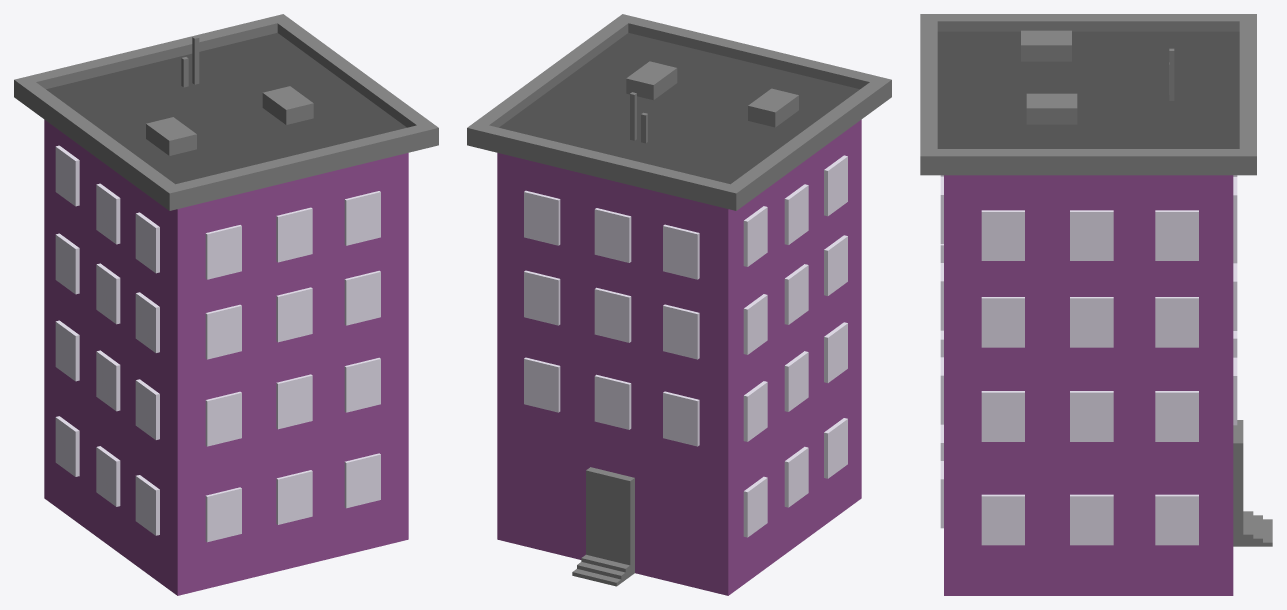
File: apartment-building.glb
3 views of the same model, side by side, from view 1: azimuth 30°, elevation 25°; view 2: azimuth 150°, elevation 25°; view 3: azimuth 270°, elevation 25° (orthographic). The views are drawn at different scales.
Parts seen in each view (by area): view 1: Cube; view 2: Cube; view 3: Cube.
Boxes of the visible parts, x1,y1,x2,y2 form: Cube: (14,14,438,595); Cube: (467,14,891,595); Cube: (920,14,1272,595).
Size of what is drawn, in the model's own units: 23.3 by 37.33 by 24.38.
